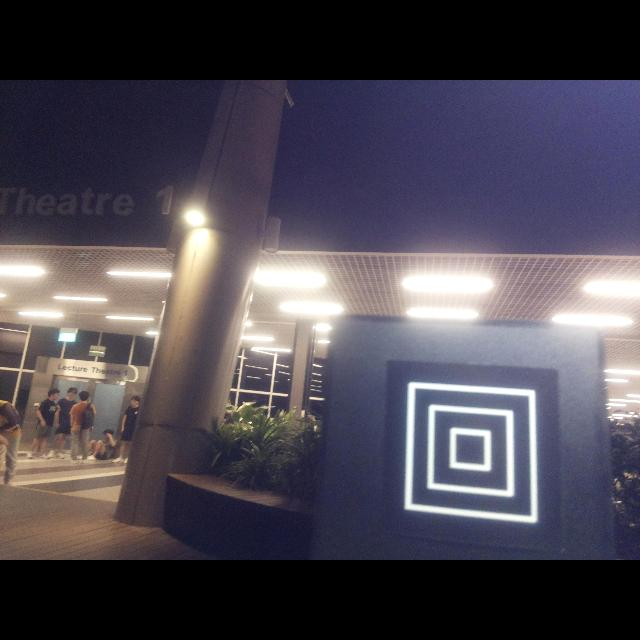BULLSEYE: (403, 382, 538, 526)
